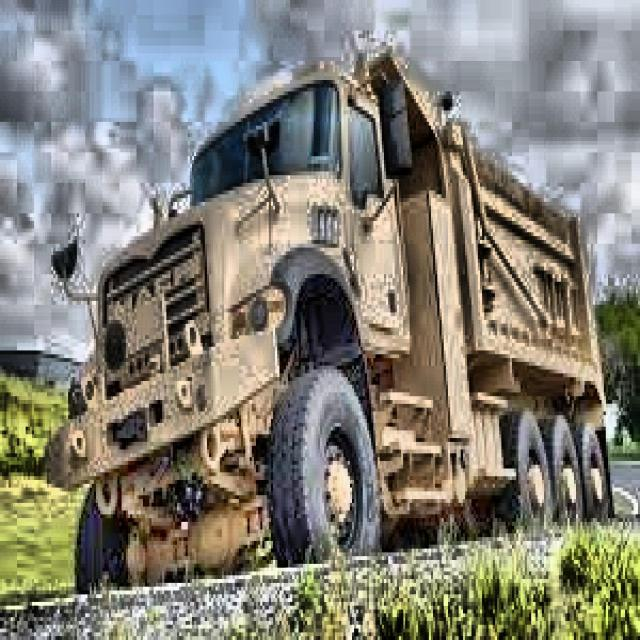dump_truck: (55, 49, 617, 591)
